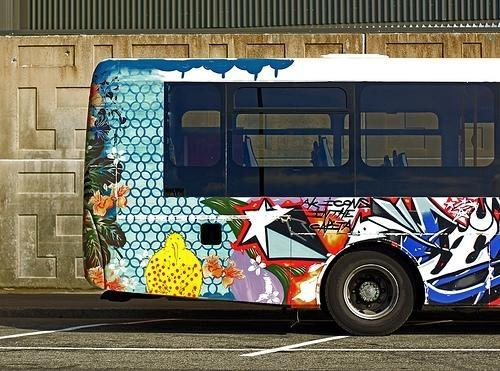bus: (80, 54, 500, 331)
